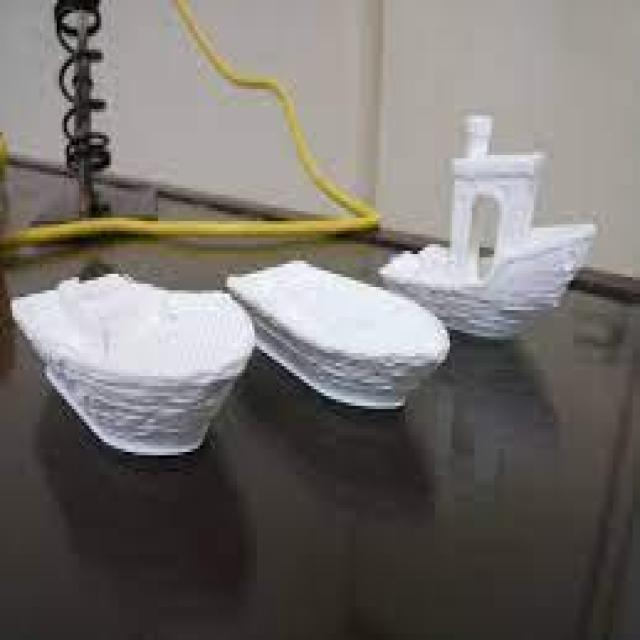spaghetti: (47, 361, 235, 444), (436, 288, 550, 342), (305, 353, 429, 399)
